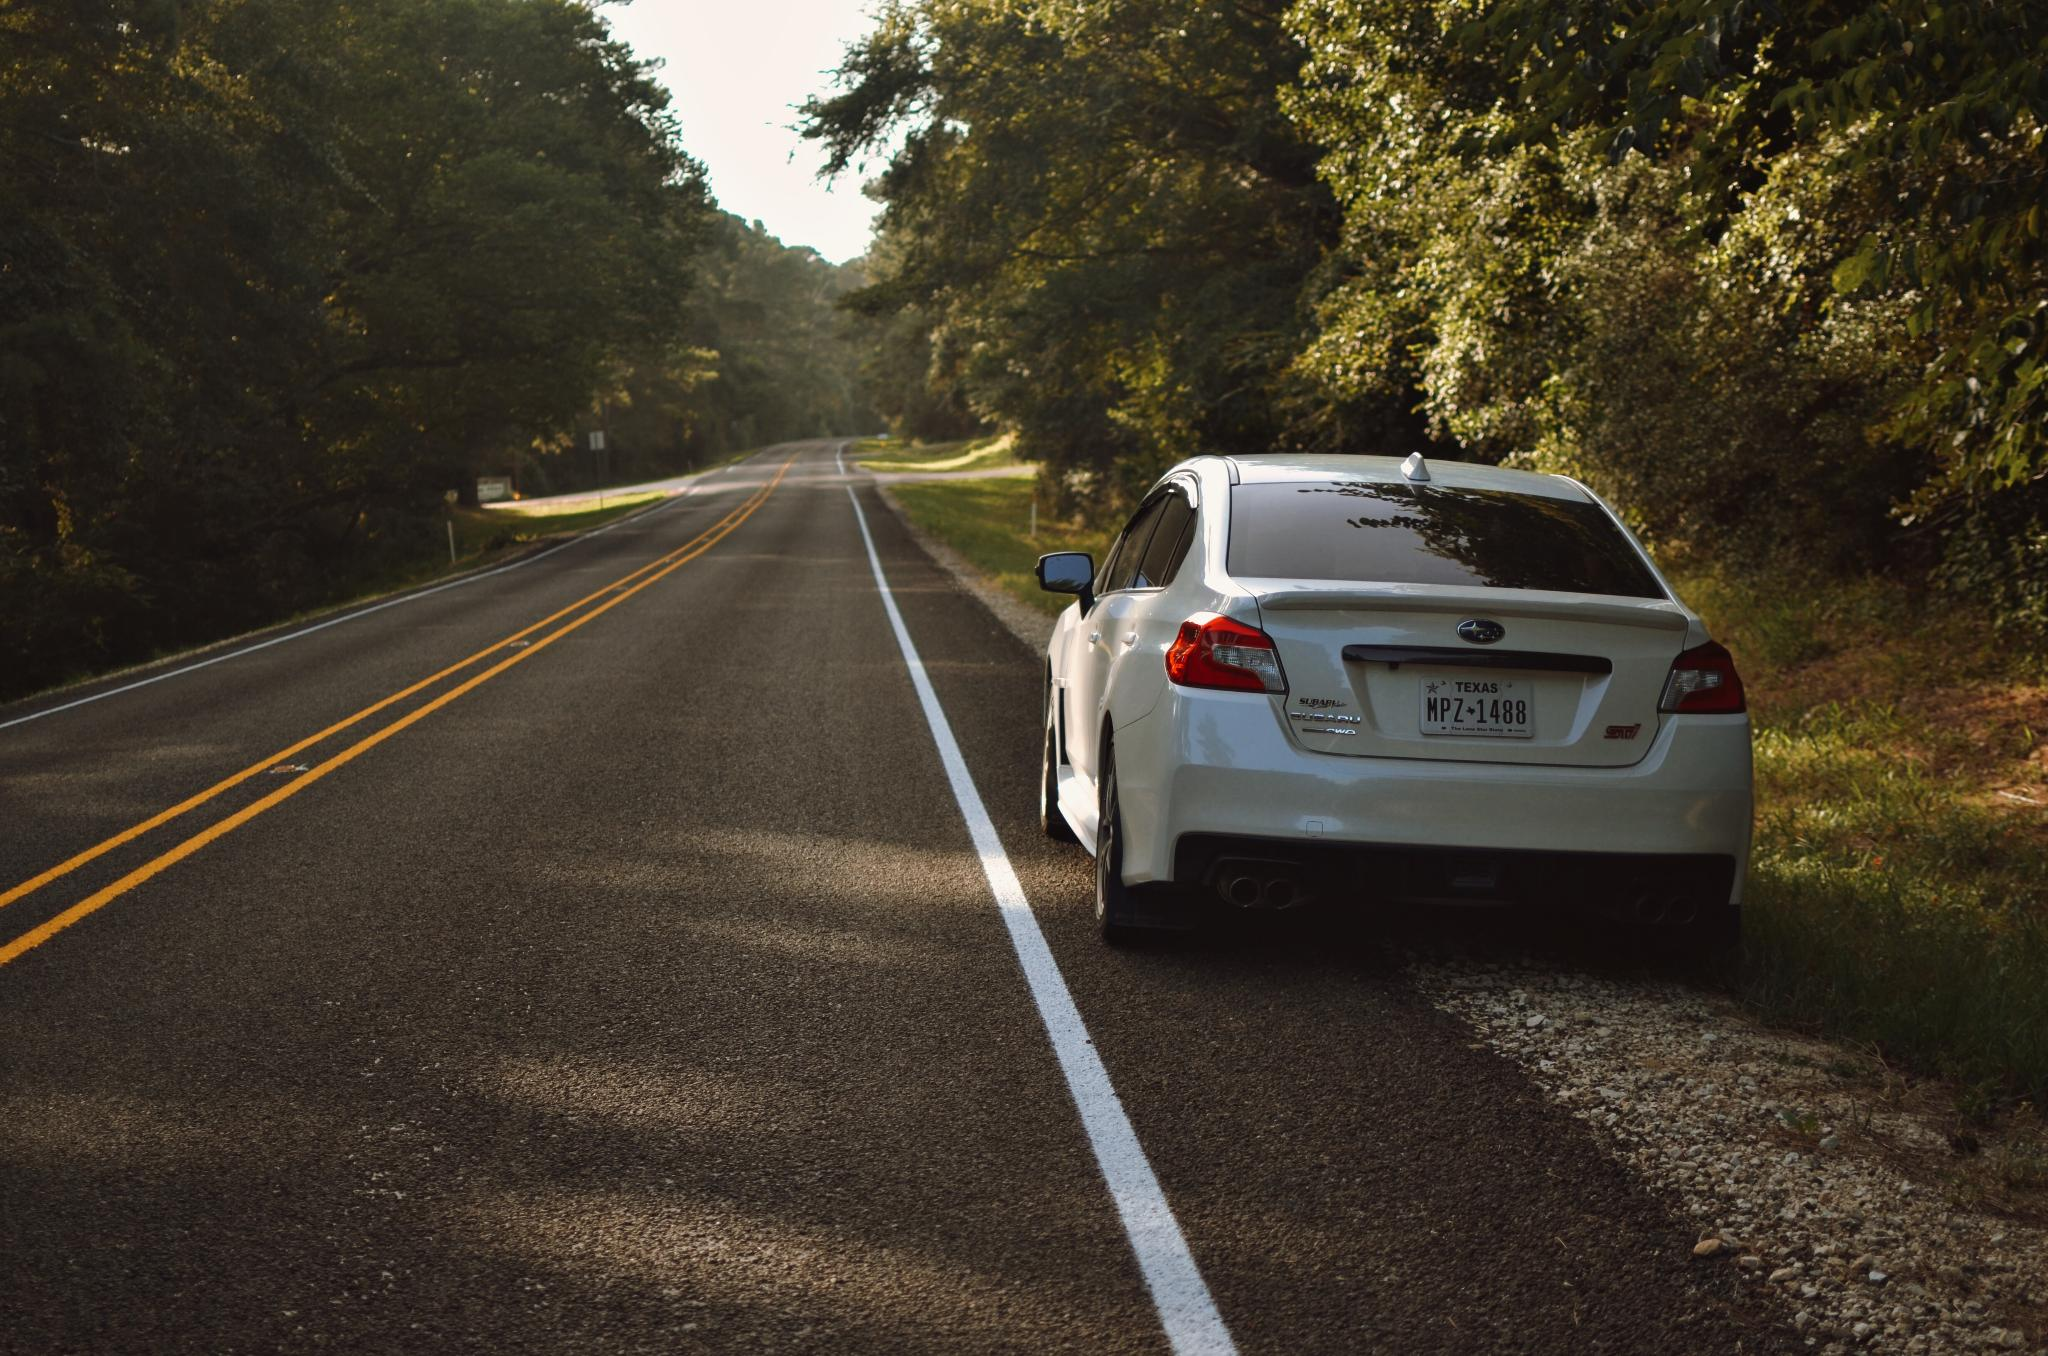subaru: (1422, 596, 1534, 660)
